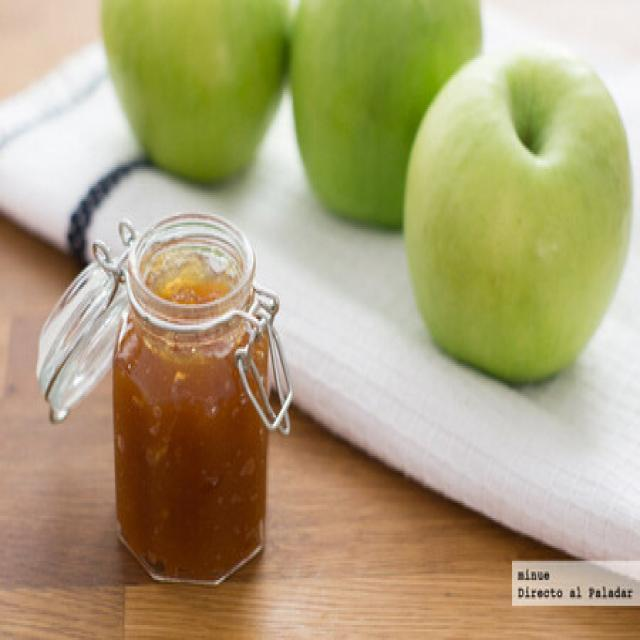Green Apple: (402, 44, 634, 386), (291, 1, 485, 231), (100, 1, 293, 186)
